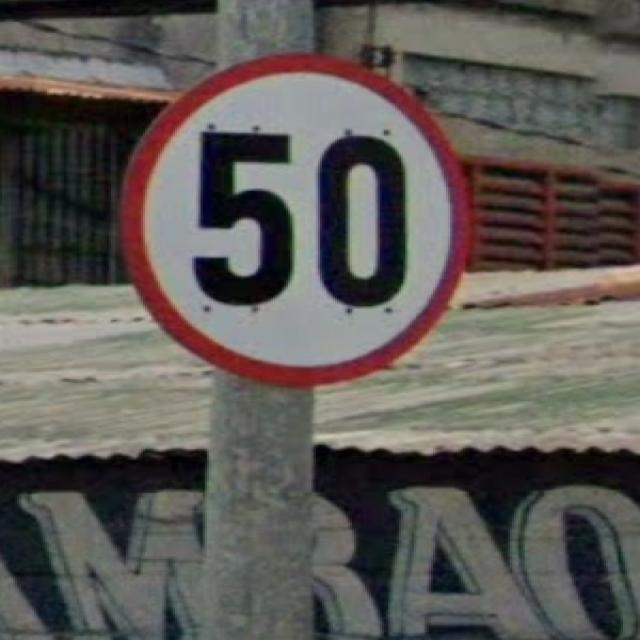50 kph: (118, 51, 472, 387)
